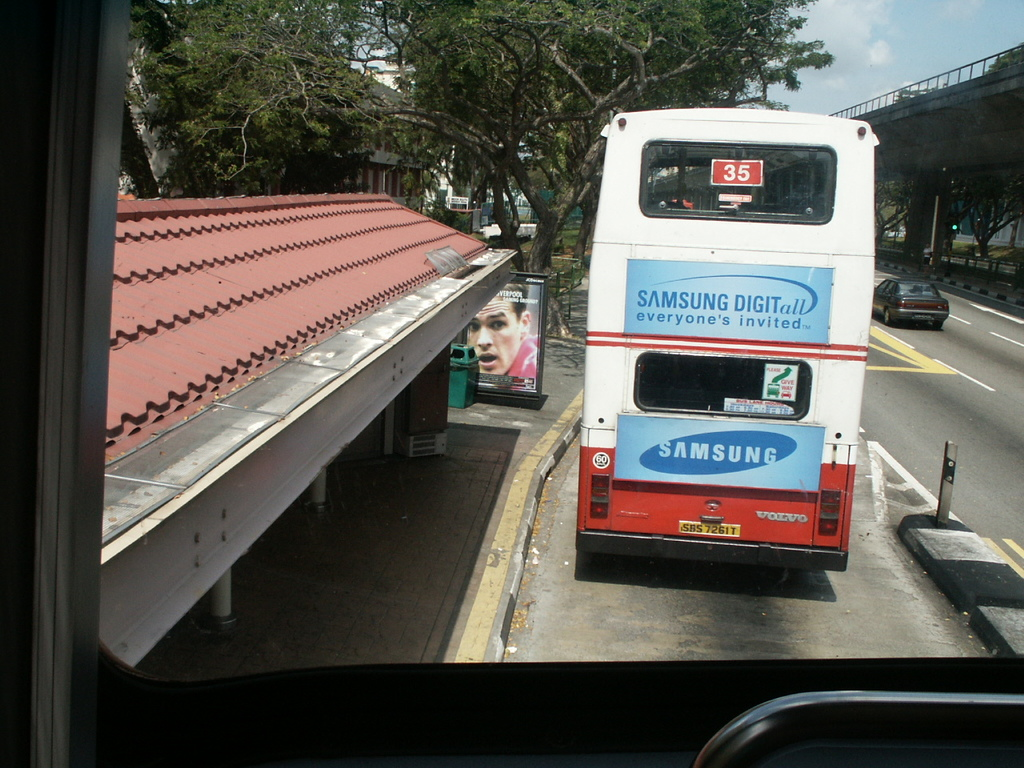Car: (865, 274, 951, 336)
